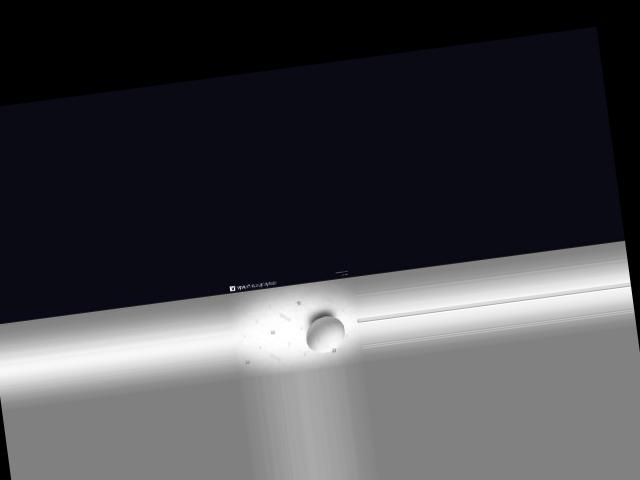egg: (304, 313, 348, 353)
